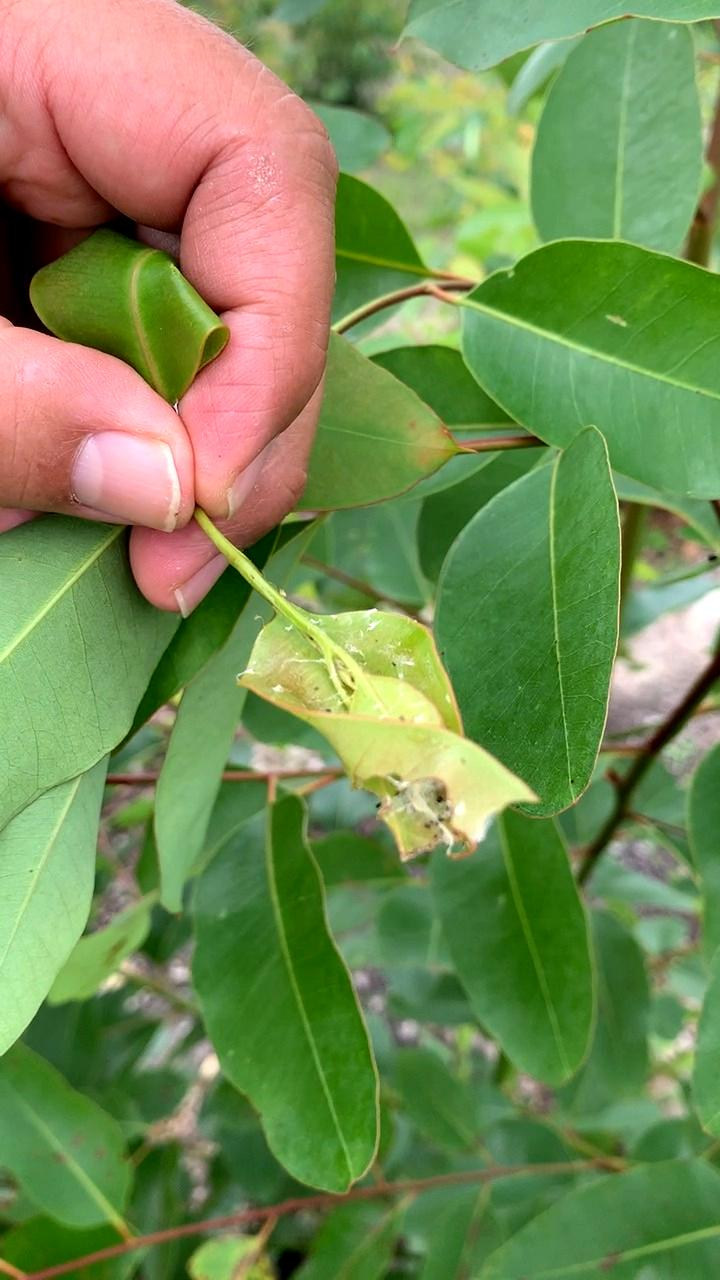Leaf Roller - Leaf: (223, 588, 557, 879)
